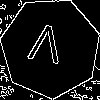V: (25, 23, 65, 73)
